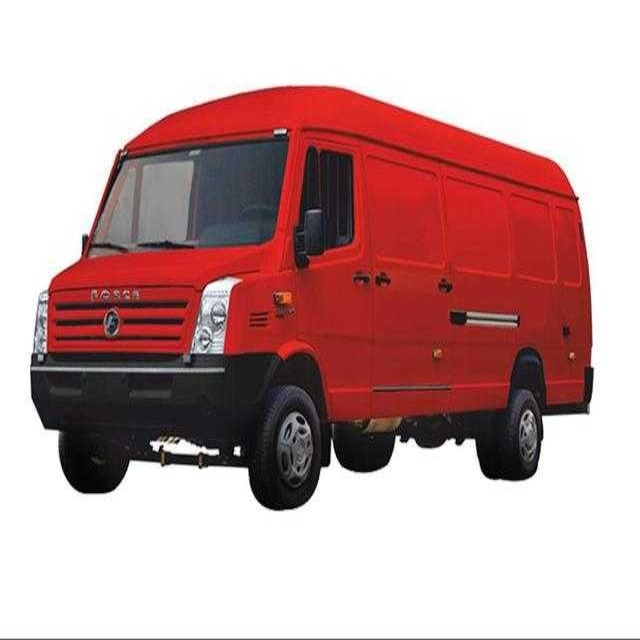Van: (29, 84, 593, 512)
